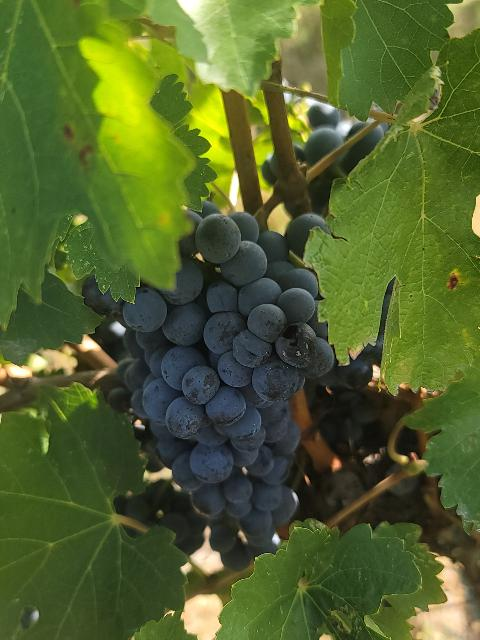grapes: (122, 201, 334, 570)
